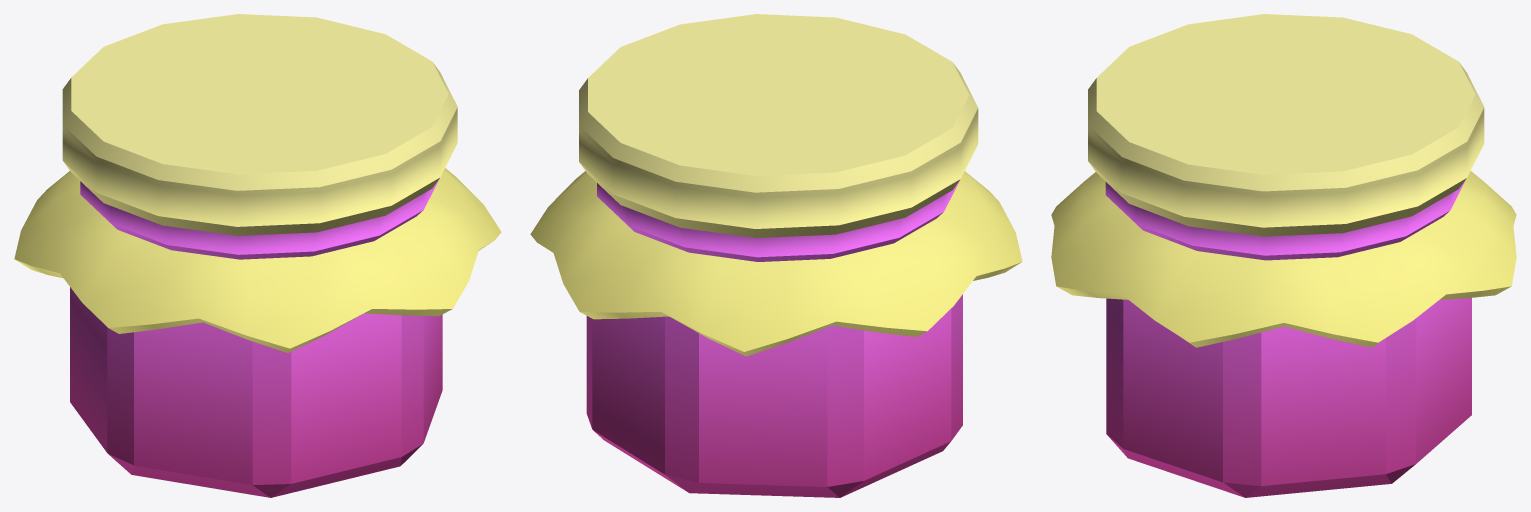
The model's file is jam_pink.fbx.
3 renders of one model, left to right at view 1: azimuth 30°, elevation 25°; view 2: azimuth 150°, elevation 25°; view 3: azimuth 270°, elevation 25°, orthographic.
Visible parts, largest first — view 1: jam_pink; view 2: jam_pink; view 3: jam_pink.
Part boxes in pixels (left/top/right/bottom): jam_pink: left=14, top=14, right=501, bottom=497; jam_pink: left=530, top=14, right=1022, bottom=497; jam_pink: left=1051, top=14, right=1516, bottom=497.
Size of the model in its own units: 65.2 by 51.35 by 65.2.
